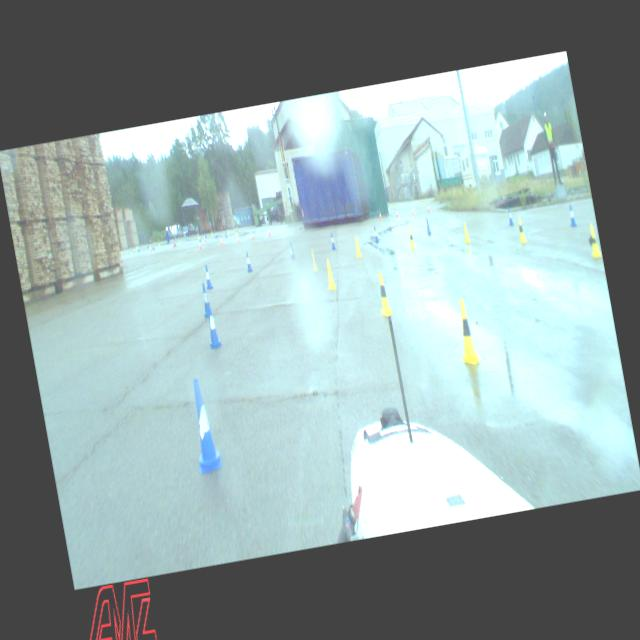blue_cone: (184, 375, 222, 472), (202, 305, 222, 349), (198, 282, 210, 317), (566, 203, 576, 226), (203, 264, 212, 288), (244, 251, 252, 271), (288, 241, 296, 260), (506, 206, 513, 224), (424, 217, 431, 234), (329, 232, 336, 248), (372, 226, 379, 242)
orange_cone: (394, 208, 398, 218), (426, 203, 430, 212), (198, 240, 202, 249), (219, 236, 223, 245), (378, 211, 382, 219), (250, 230, 253, 240), (411, 206, 414, 215), (237, 234, 240, 242), (203, 234, 206, 242), (149, 244, 152, 252), (268, 227, 270, 236)
yellow_cone: (450, 296, 481, 366), (372, 270, 393, 316), (586, 222, 601, 256), (322, 258, 337, 290), (516, 217, 526, 242), (460, 220, 470, 242), (309, 248, 318, 272), (353, 235, 362, 258), (407, 227, 415, 248)
